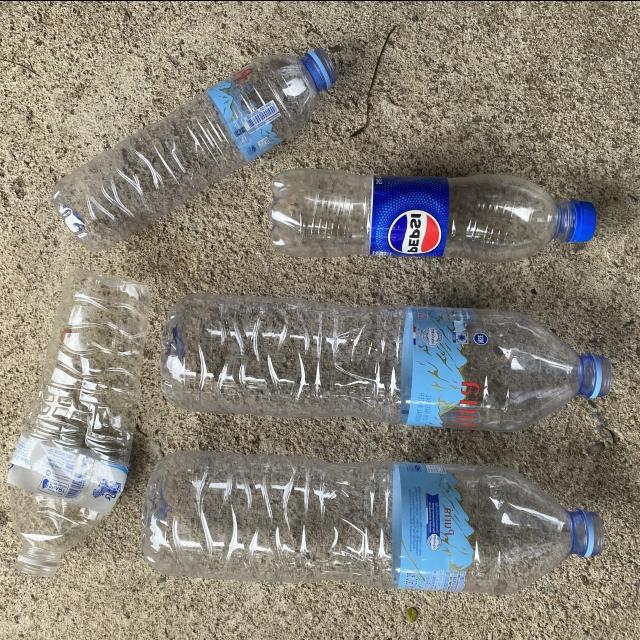plastik: (142, 450, 604, 594), (161, 292, 612, 430), (52, 48, 337, 250), (8, 268, 150, 575), (269, 168, 596, 261)
